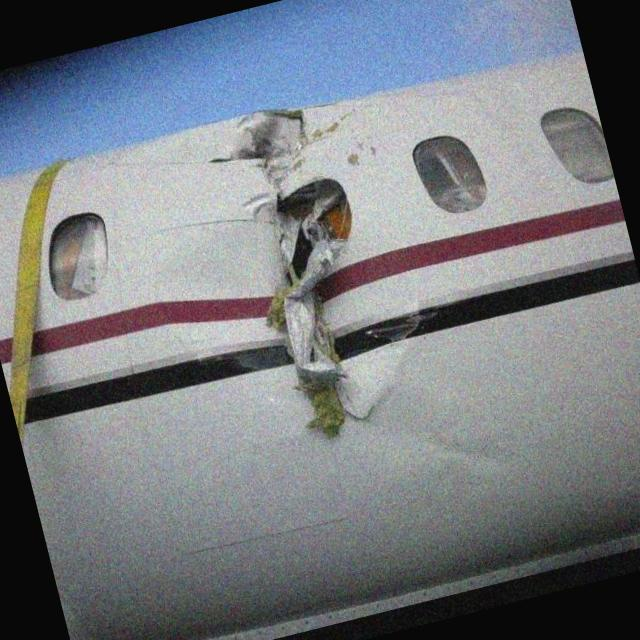crack: (178, 96, 416, 468)
dent: (349, 374, 522, 508), (147, 224, 275, 394)
